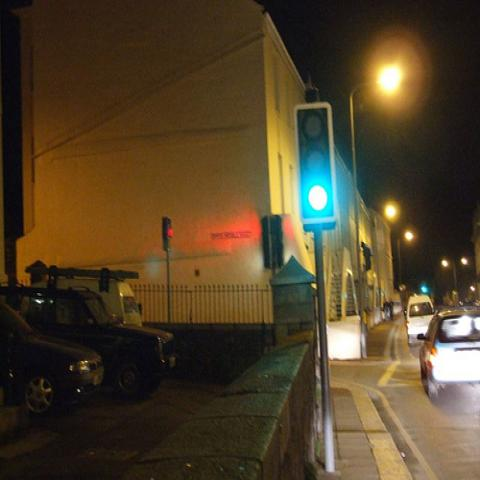car: (12, 282, 169, 394), (0, 300, 104, 418), (417, 306, 479, 399), (49, 280, 142, 333), (406, 294, 435, 346)
